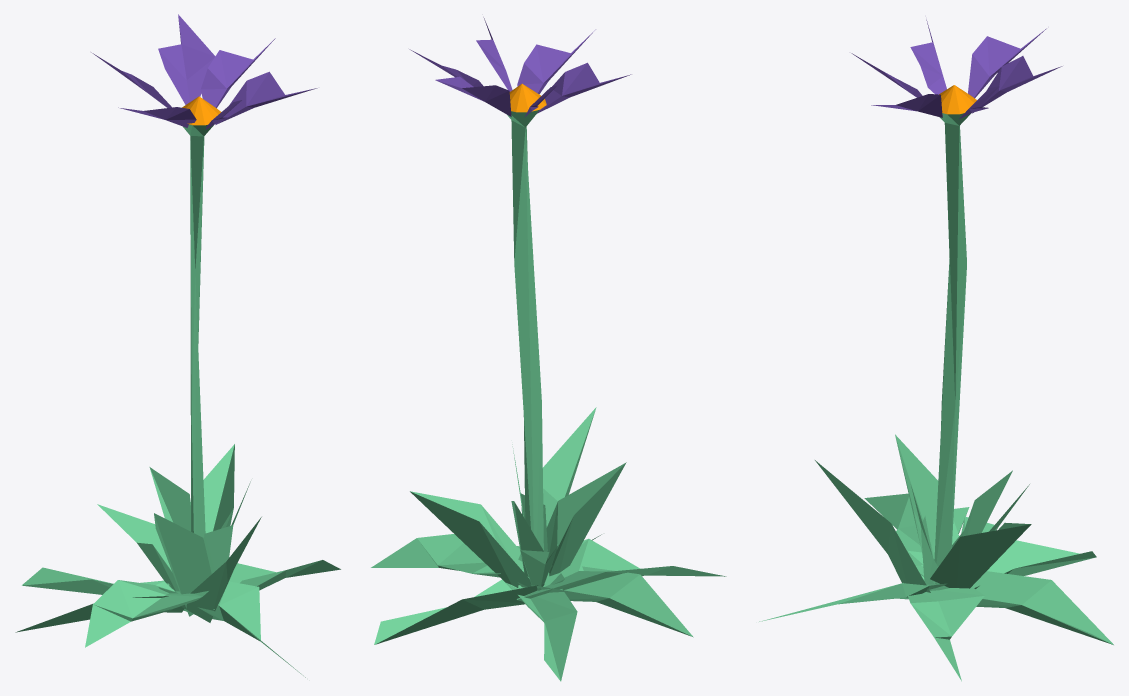
The model's file is purpleLong_lod2.glb.
3 renders of one model, left to right at view 1: azimuth 30°, elevation 25°; view 2: azimuth 150°, elevation 25°; view 3: azimuth 270°, elevation 25°, orthographic. The views are drawn at different scales.
Visible parts, largest first — view 1: group481568313, group1366698634; view 2: group481568313, group1366698634; view 3: group481568313, group1366698634.
Part boxes in pixels (<box>): group481568313: <box>15,96,340,677</box>; group1366698634: <box>91,14,317,129</box>; group481568313: <box>371,83,726,681</box>; group1366698634: <box>409,17,631,117</box>; group481568313: <box>759,85,1113,681</box>; group1366698634: <box>851,19,1062,118</box>.
Size of the model in its own units: 1.53 by 2.51 by 1.44.
